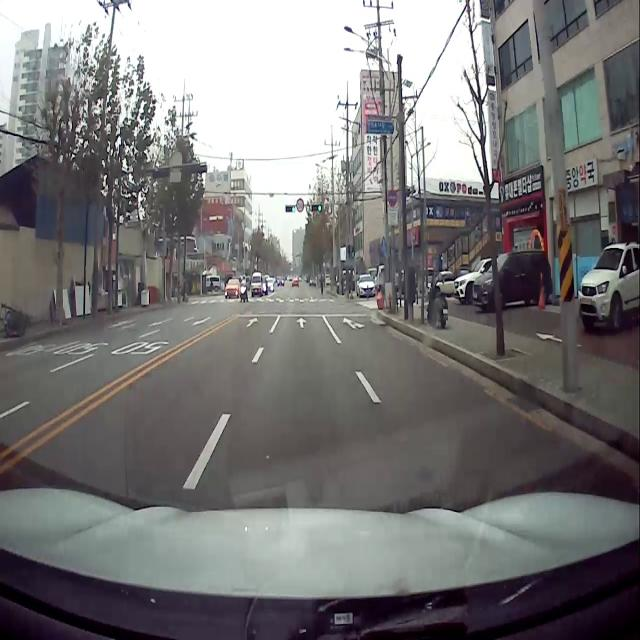Green Light: (317, 204, 322, 212), (292, 206, 295, 213)
